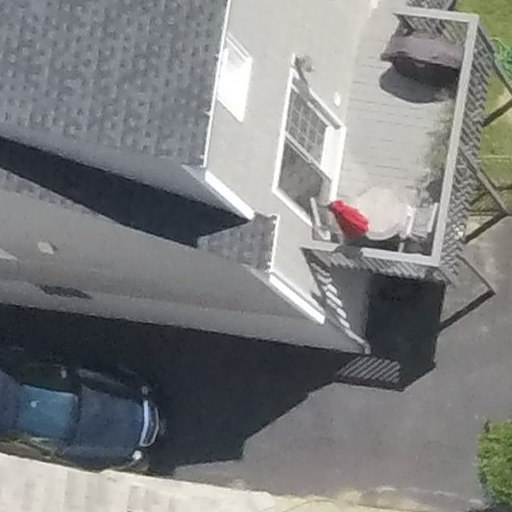porch: (303, 1, 505, 306)
table: (350, 184, 409, 242)
